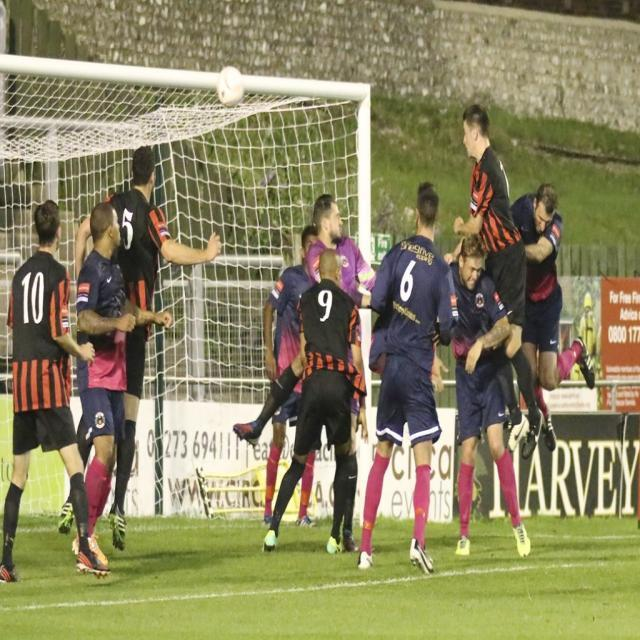football: (210, 60, 255, 125)
